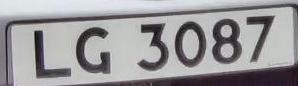0: (169, 17, 211, 72)
3: (132, 18, 174, 77)
7: (241, 10, 279, 67)
8: (206, 13, 247, 70)
G: (70, 21, 116, 80)
L: (26, 24, 72, 83)
